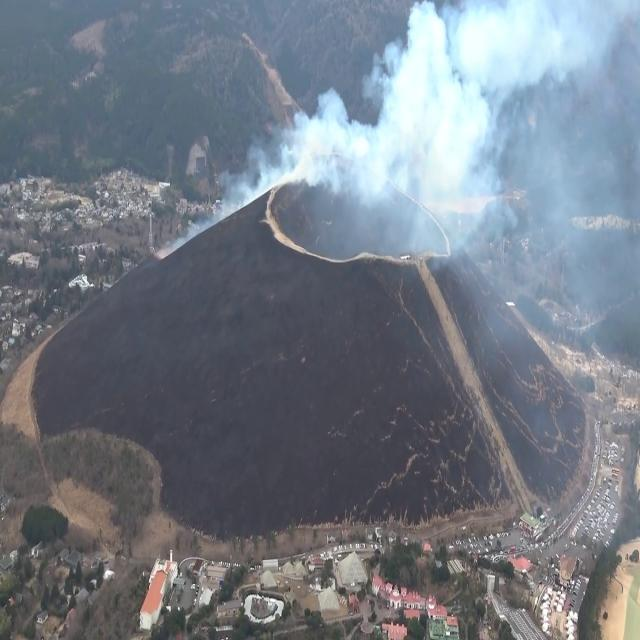Smoke: (248, 2, 632, 245)
